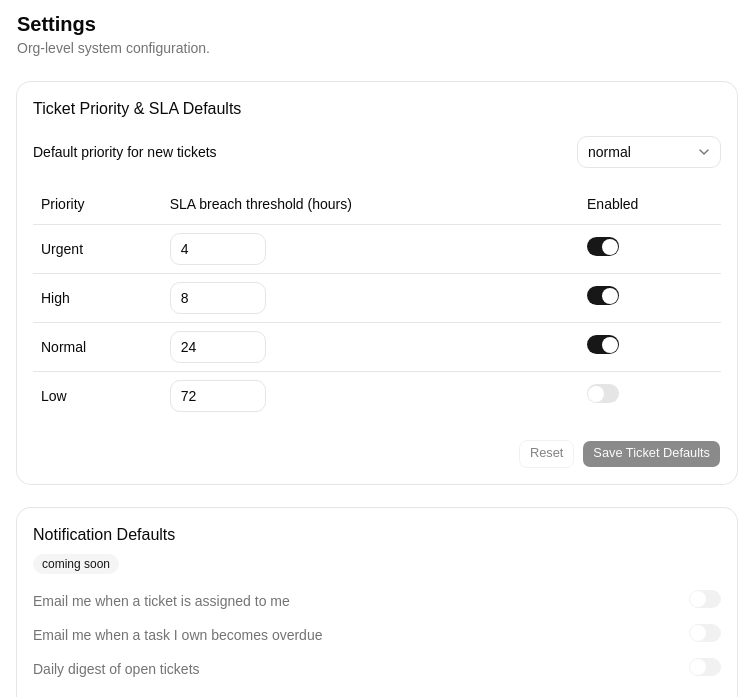
SettingsPage › marks the Ticket card dirty and enables Save/Reset when an SLA hours input changes
The width and height of the screenshot is (755, 697).
expect the text "Default priority for new tickets" is shown: met, box top-left (33, 142), bottom-right (217, 162)
Replace the text in the number field next to "urgent" with "6" at (218, 248), box top-left (170, 232), bottom-right (266, 264)
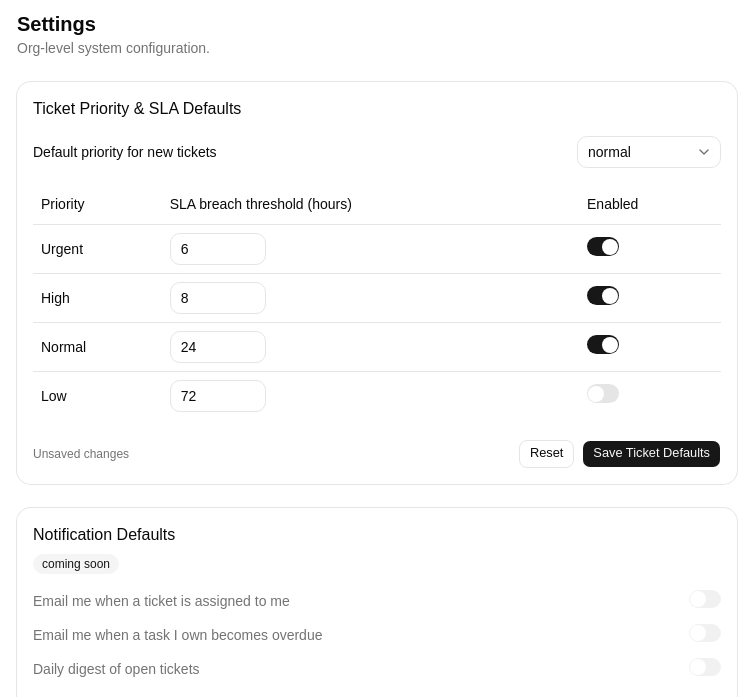
expect the text "Unsaved changes" is shown: met, box top-left (33, 446), bottom-right (129, 462)
expect the button "Save Ticket Defaults" is enabled: met, box top-left (582, 440), bottom-right (721, 468)
expect the button "Reset" is enabled: met, box top-left (519, 440), bottom-right (574, 468)
